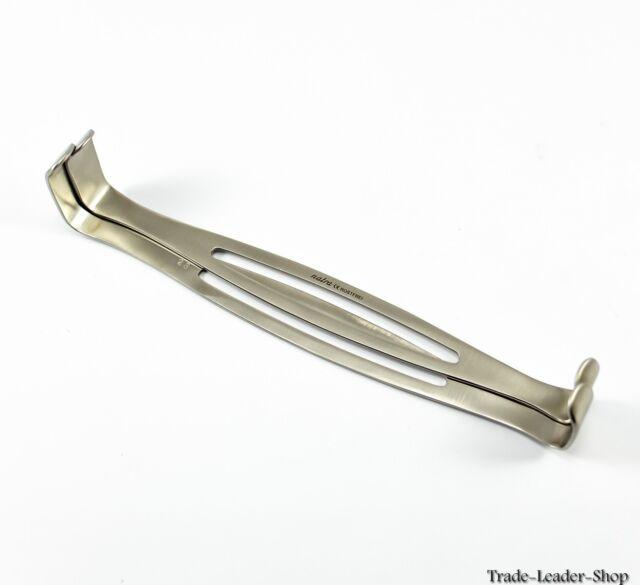Army Navy Retractor: (46, 143, 595, 454), (65, 120, 605, 425)
